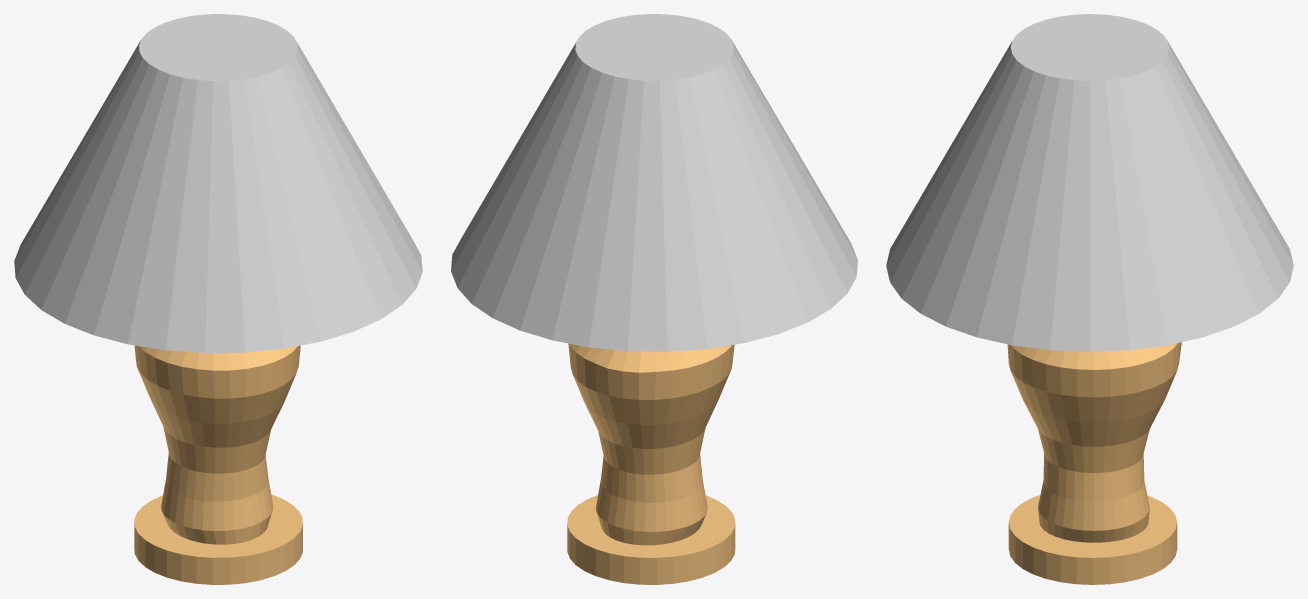
File: RosesLAMP.fbx
3 renders of one model, left to right at view 1: azimuth 30°, elevation 25°; view 2: azimuth 150°, elevation 25°; view 3: azimuth 270°, elevation 25°, orthographic.
Parts seen in each view (by area): view 1: Cylinder.002, Cylinder, Cylinder.001; view 2: Cylinder.002, Cylinder, Cylinder.001; view 3: Cylinder.002, Cylinder, Cylinder.001.
Part boxes in pixels (box(x1,y1,x2,y2)): Cylinder.002: box(14, 14, 422, 352); Cylinder: box(134, 345, 300, 544); Cylinder.001: box(134, 494, 302, 584); Cylinder.002: box(451, 14, 857, 351); Cylinder: box(568, 343, 734, 545); Cylinder.001: box(567, 495, 735, 584); Cylinder.002: box(886, 14, 1293, 351); Cylinder: box(1007, 342, 1181, 542); Cylinder.001: box(1008, 495, 1177, 584).
Size of the model in its own units: 294 by 398 by 294.
